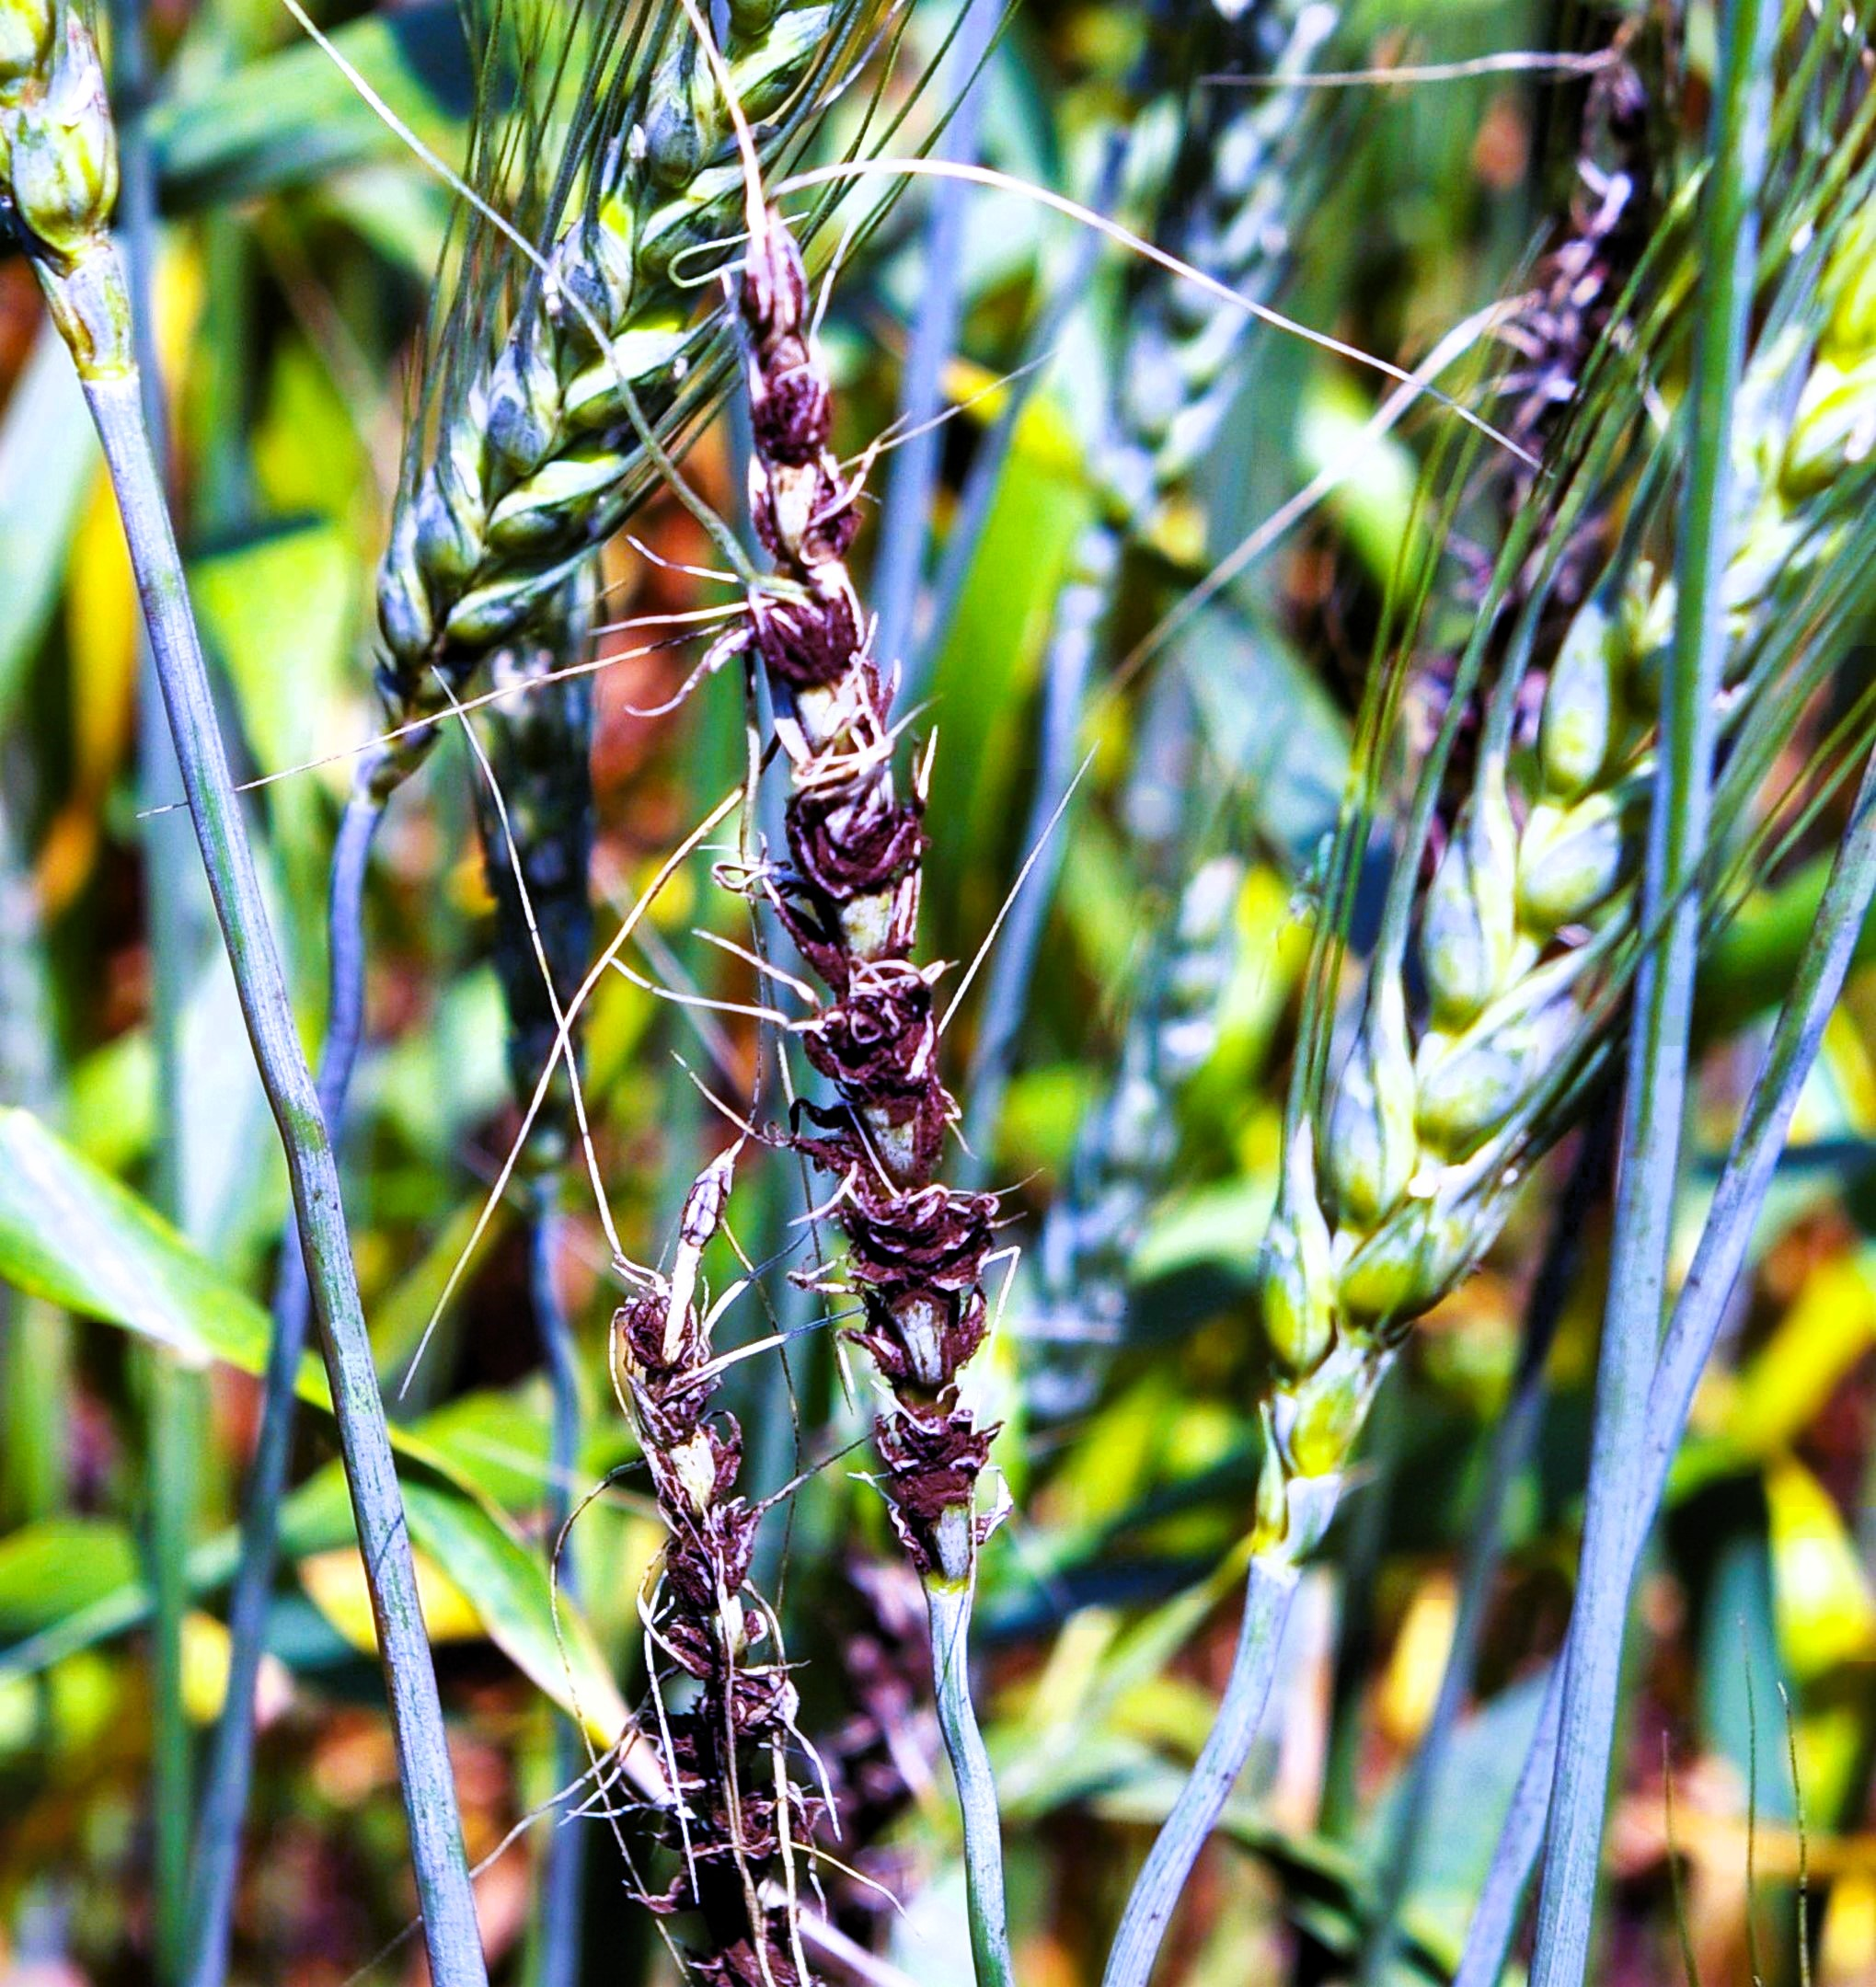Wheat Loose Smut: (696, 448, 1003, 1261)
